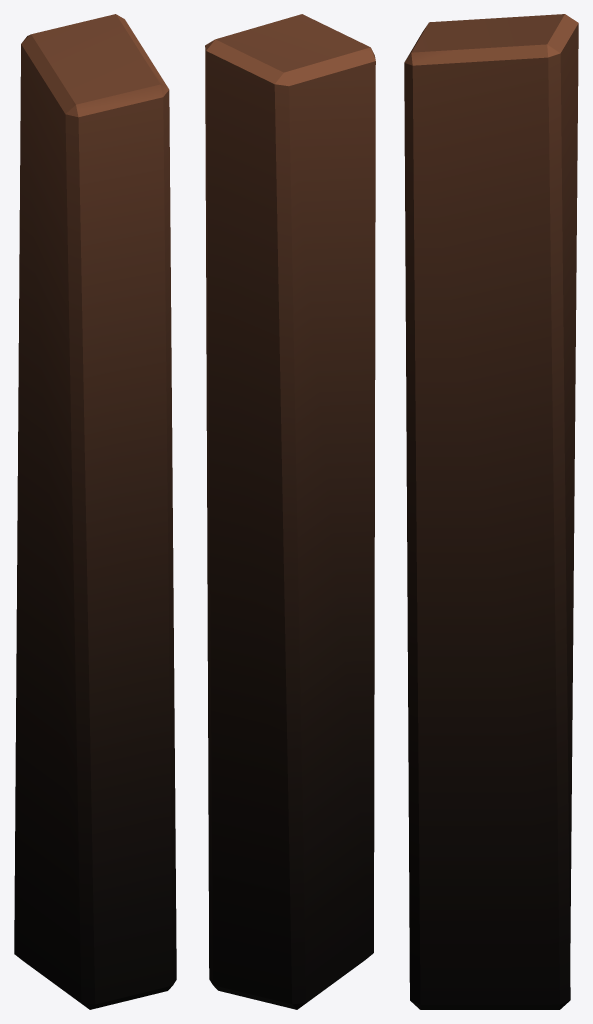
File: Fence Post.glb
3 views of the same model, side by side, from view 1: azimuth 30°, elevation 25°; view 2: azimuth 150°, elevation 25°; view 3: azimuth 270°, elevation 25° (orthographic). The views are drawn at different scales.
Visible parts, largest first — view 1: Fance Post; view 2: Fance Post; view 3: Fance Post.
Boxes of the visible parts, left/top/right/bottom form: Fance Post: left=14, top=14, right=176, bottom=1009; Fance Post: left=205, top=14, right=375, bottom=1009; Fance Post: left=404, top=14, right=578, bottom=1009.
Size of the model in its own units: 0.2594 by 2.03 by 0.3305.
1 material, 1 textured.
